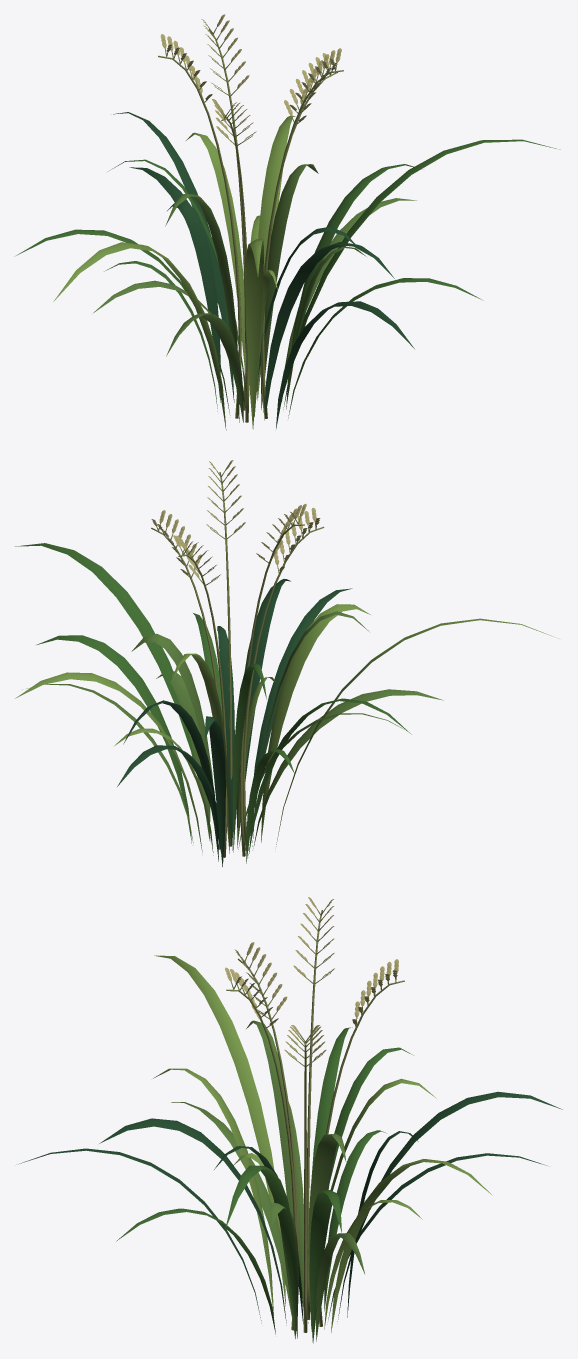
The model's file is meadow_grass_seed.hi.glb.
3 renders of one model, top to bottom at view 1: azimuth 30°, elevation 25°; view 2: azimuth 150°, elevation 25°; view 3: azimuth 270°, elevation 25°, orthographic. The views are drawn at different scales.
Parts seen in each view (by area): view 1: body; view 2: body; view 3: body.
Part boxes in pixels (bbox=[...]): body: bbox=[14, 14, 560, 430]; body: bbox=[15, 460, 557, 866]; body: bbox=[18, 897, 562, 1343].
Size of the model in its own units: 1.21 by 0.8215 by 1.05.
